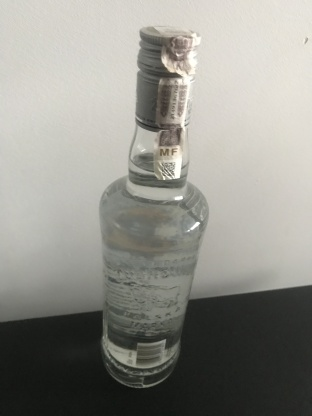nakretka: (134, 22, 202, 132)
